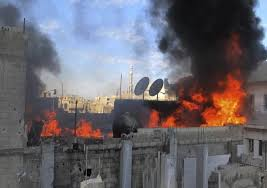fire: (170, 65, 246, 137), (34, 107, 107, 142)
